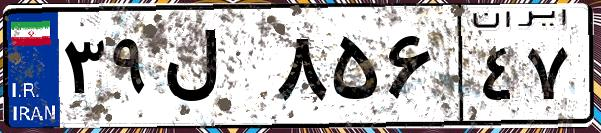3: (57, 26, 110, 100)
4: (475, 38, 525, 113)
5: (330, 28, 385, 110)
6: (385, 28, 445, 110)
7: (525, 38, 570, 115)
8: (270, 28, 330, 110)
9: (110, 28, 158, 98)
ل: (158, 20, 270, 120)
